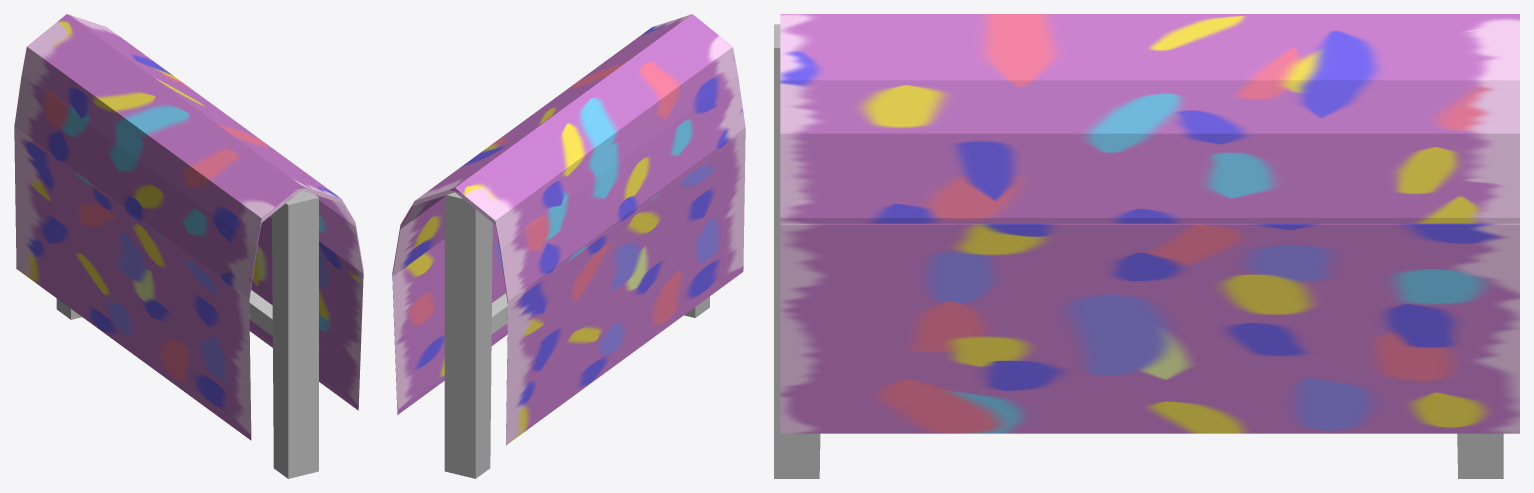
File: trzepak 1.fbx
3 views of the same model, side by side, from view 1: azimuth 30°, elevation 25°; view 2: azimuth 150°, elevation 25°; view 3: azimuth 270°, elevation 25° (orthographic). The views are drawn at different scales.
Parts seen in each view (by area): view 1: Cube.002, Cube, Cube.001; view 2: Cube.002, Cube, Cube.001; view 3: Cube.002, Cube.
Boxes of the visible parts, x1,y1,x2,y2 form: Cube.002: (14, 14, 363, 440); Cube: (56, 190, 318, 478); Cube.001: (249, 290, 272, 335); Cube.002: (392, 14, 745, 445); Cube: (444, 192, 709, 478); Cube.001: (491, 293, 507, 334); Cube.002: (780, 14, 1519, 433); Cube: (774, 24, 1503, 478).
Size of the model in its own units: 533 by 1281 by 1910.
